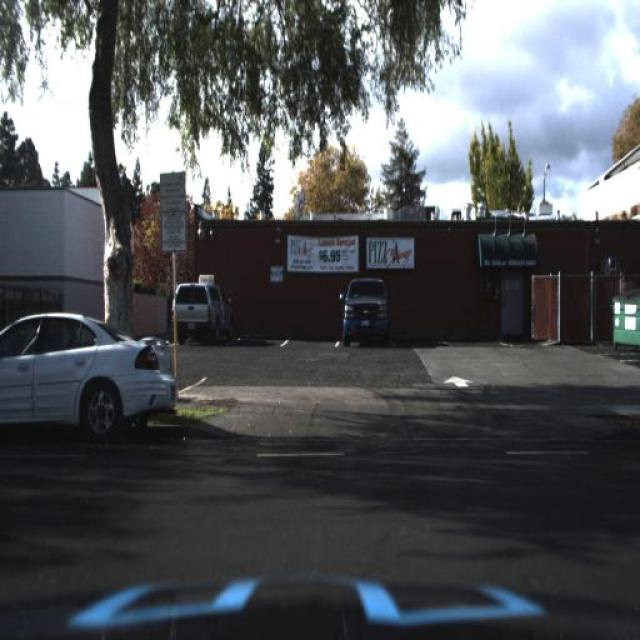car: (0, 307, 181, 438), (328, 270, 396, 358), (171, 280, 238, 340)
